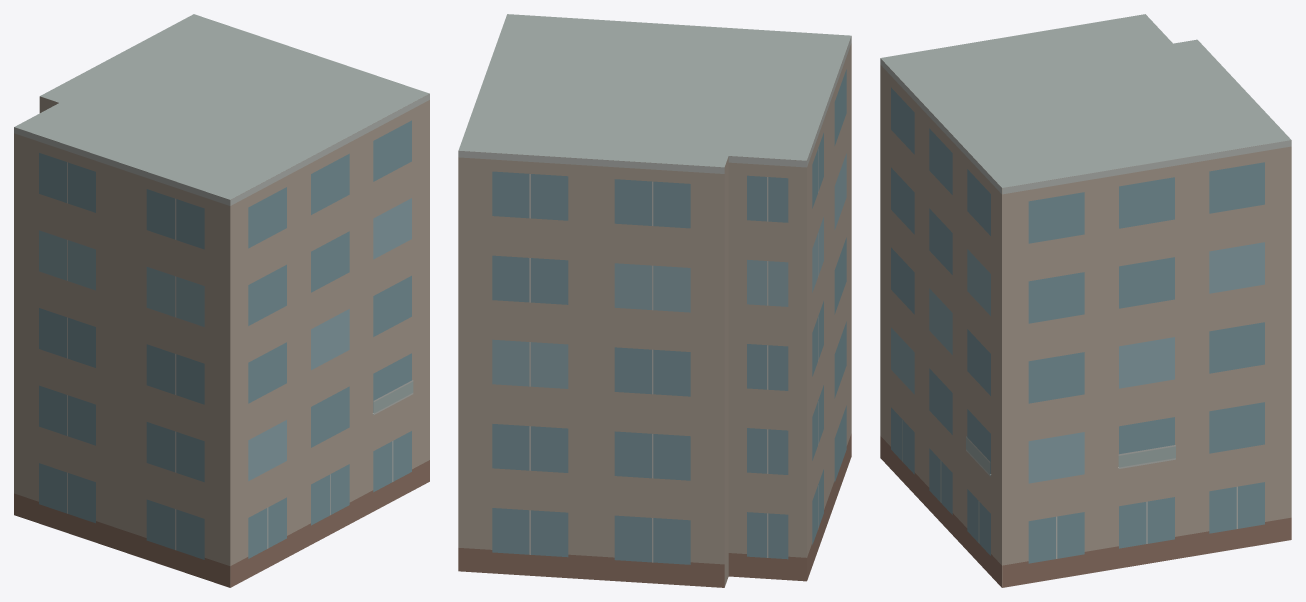
The model's file is survey-upis-32737499.glb.
3 views of the same model, side by side, from view 1: azimuth 30°, elevation 25°; view 2: azimuth 150°, elevation 25°; view 3: azimuth 270°, elevation 25° (orthographic). The views are drawn at different scales.
Parts seen in each view (by area): view 1: survey-upis-32737499.tmp; view 2: survey-upis-32737499.tmp; view 3: survey-upis-32737499.tmp.
Boxes of the visible parts, x1,y1,x2,y2 form: survey-upis-32737499.tmp: (14,14,429,587); survey-upis-32737499.tmp: (458,14,851,587); survey-upis-32737499.tmp: (880,14,1291,587).
Size of the model in its own units: 14.25 by 15.25 by 14.23.
